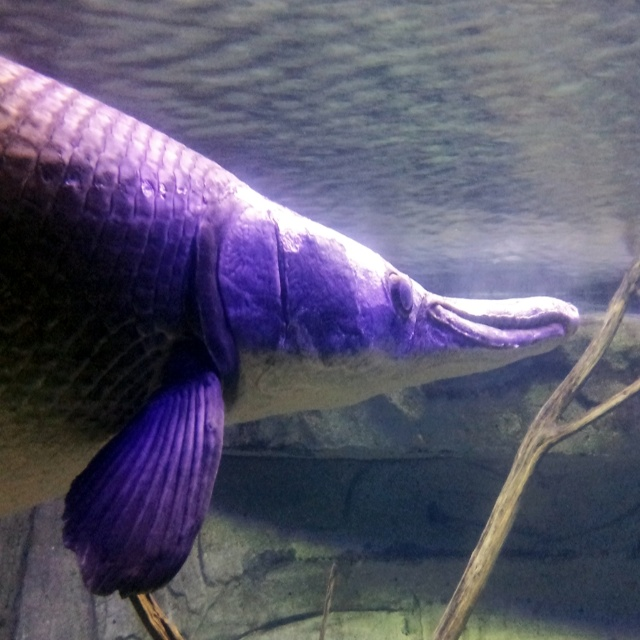Fish: (0, 56, 582, 599)
